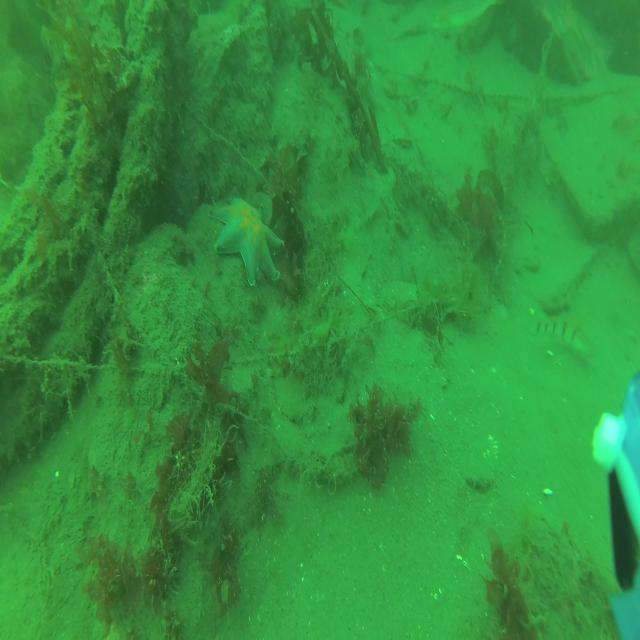starfish: (209, 197, 284, 284)
